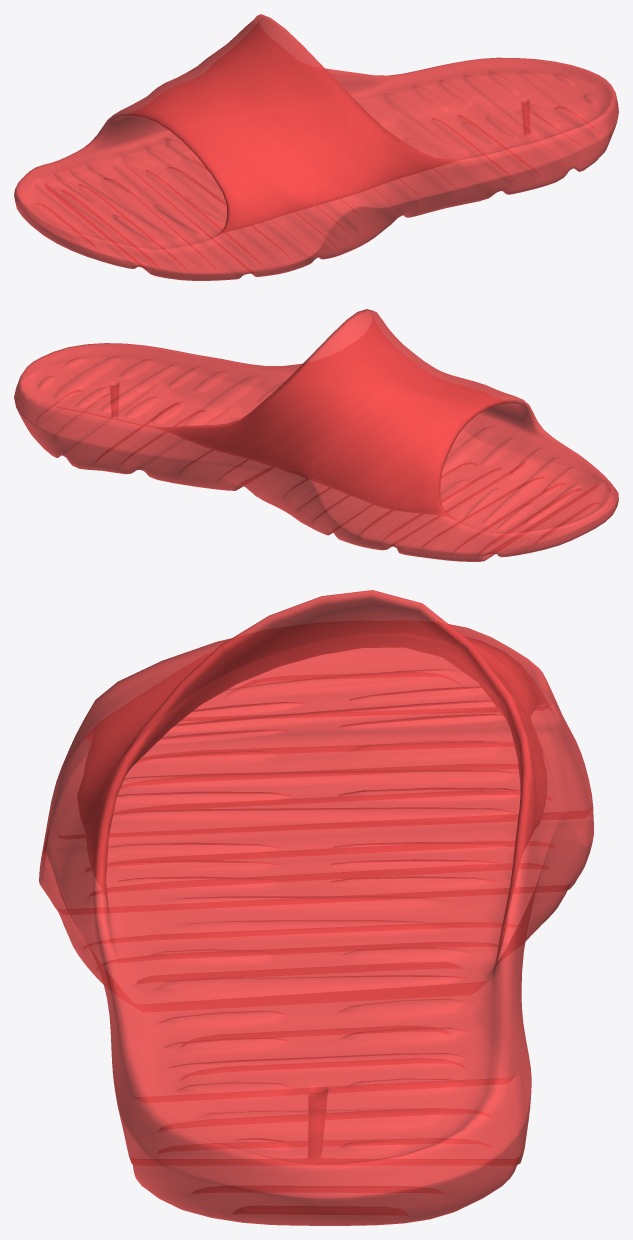
Rendered from nike_slipper.glb.
The picture shows the model from 3 angles, top to bottom: view 1: azimuth 30°, elevation 25°; view 2: azimuth 150°, elevation 25°; view 3: azimuth 270°, elevation 25°; orthographic projection. The views are drawn at different scales.
Bounding box in the file's own units: 273 × 83.82 × 115.
